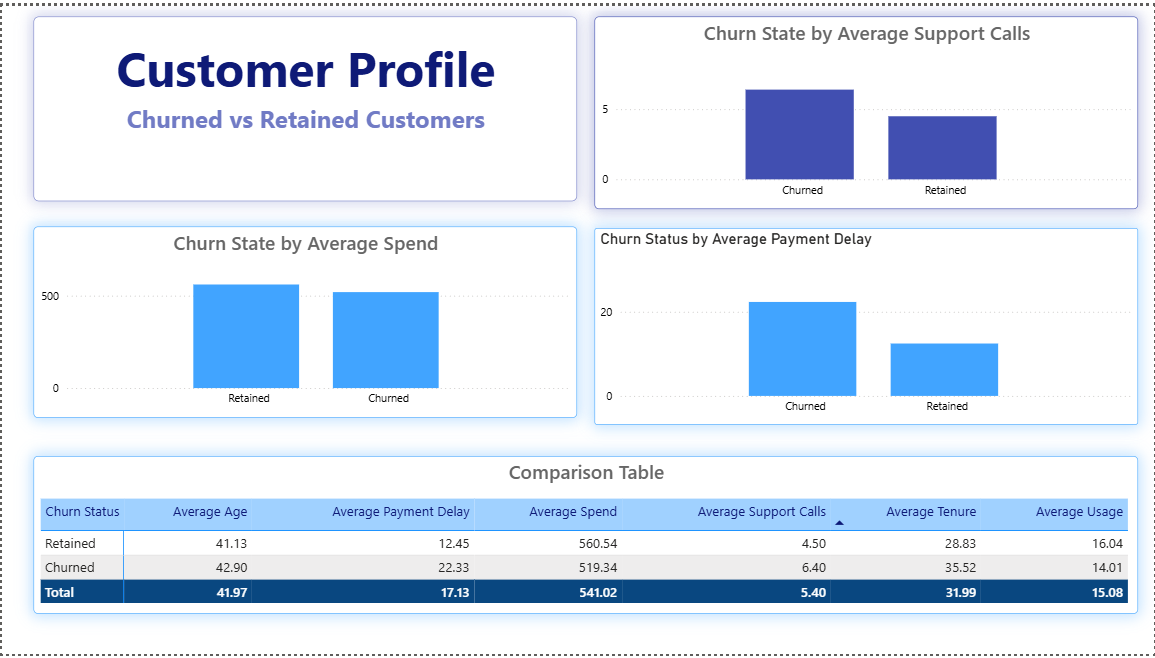

What the dashboard file says about the page in this screenshot:
{"tool":"powerbi","page":{"name":"Customer Profile","canvas":[1280,720],"ordinal":2},"visuals":[{"type":"pivotTable","title":"Comparison Table","fields":{"Rows":["CustomerChurn.Churn Status"],"Values":["CustomerChurn.Average Age","CustomerChurn.Average Payment Delay","CustomerChurn.Average Spend","CustomerChurn.Average Support Calls","CustomerChurn.Average Tenure","CustomerChurn.Average Usage"]},"box":[35.6,500.3,1227.5,175],"z":0},{"type":"clusteredColumnChart","title":"Churn State by Average Spend","fields":{"Category":["CustomerChurn.Churn Status"],"Y":["CustomerChurn.Average Spend"]},"box":[35.7,245.7,604.3,212.9],"z":1000},{"type":"clusteredColumnChart","title":"Churn State by Average Support Calls","fields":{"Category":["CustomerChurn.Churn Status"],"Y":["CustomerChurn.Average Support Calls"]},"box":[659,11.3,604.3,214.3],"z":2000},{"type":"clusteredColumnChart","title":"Churn Status by Average Payment Delay ","fields":{"Category":["CustomerChurn.Churn Status"],"Y":["CustomerChurn.Average Payment Delay"]},"box":[659,246.1,604.3,218.6],"z":3000},{"type":"textbox","title":"Customer Profile","box":[35.6,11.3,604,205.6],"z":4000}]}

Visuals, with their boxes in screenshot pixels (x1, y1, x2, y2), scaled from the page's 1280x720 canvas onto the 1155x658 screenshot:
"Comparison Table" pivotTable: detection(32, 457, 1140, 617)
"Churn State by Average Spend" clusteredColumnChart: detection(32, 225, 578, 419)
"Churn State by Average Support Calls" clusteredColumnChart: detection(595, 10, 1140, 206)
"Churn Status by Average Payment Delay " clusteredColumnChart: detection(595, 225, 1140, 425)
"Customer Profile" textbox: detection(32, 10, 577, 198)
